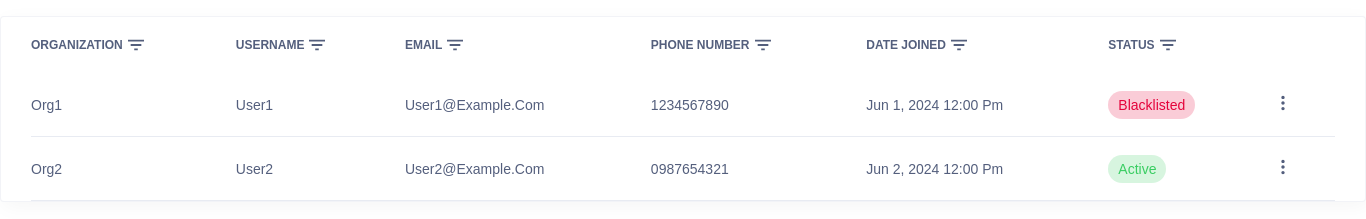
Test: UsersTable › opens options modal when more icon is clicked
The width and height of the screenshot is (1366, 219).
Step 1. Click the picture with alt text "more" in the row of "Org1" → click(1283, 103), box [1273,93,1293,113]
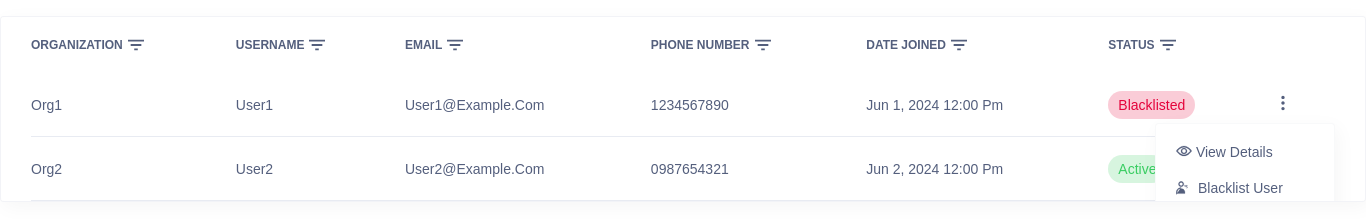
Expected: the text "View Details" is shown, [1196,144,1273,160]
Expected: the text "Blacklist User" is shown, [1198,180,1283,196]
